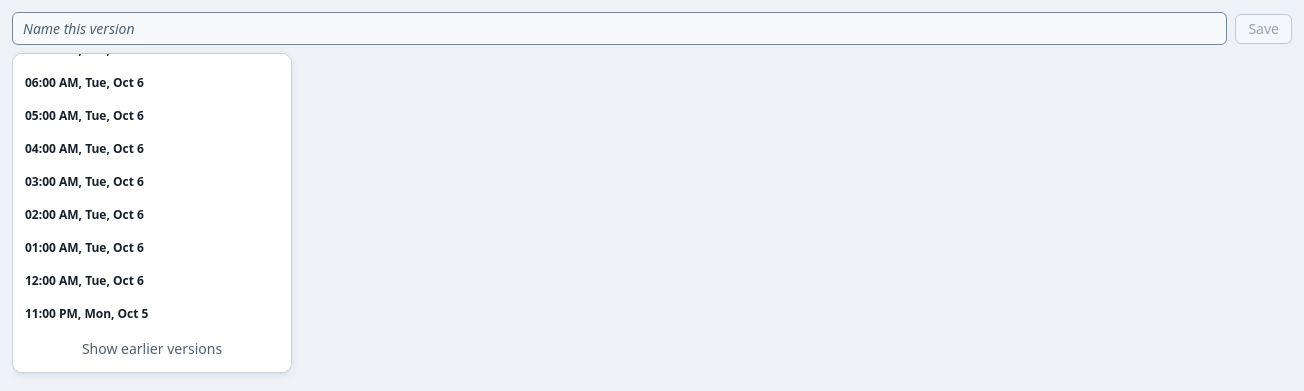
it: the version list › shows the newest fifty, and the rest a page at a time
The width and height of the screenshot is (1304, 391).
(page scrolled)
Click the button with test id "history-more": (152, 349) x1=69 y1=334 x2=235 y2=364
(page scrolled)
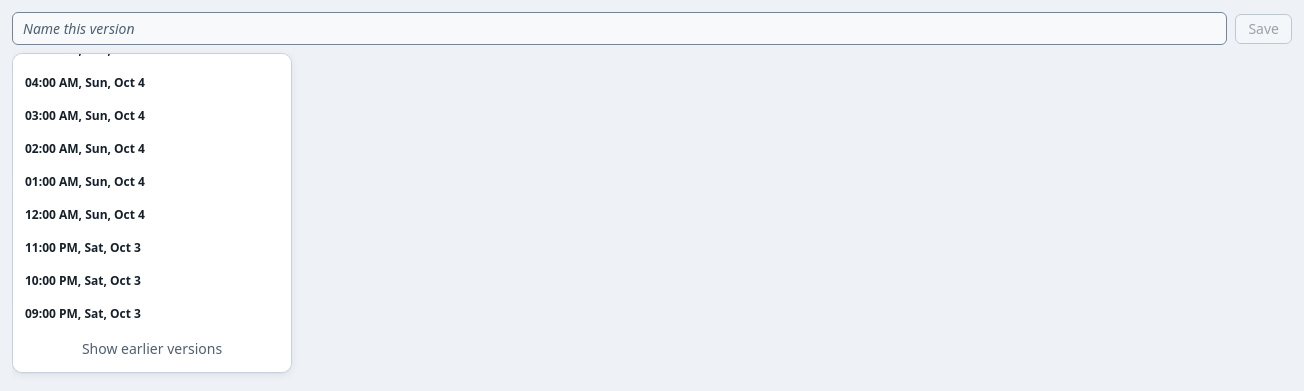
Click the button with test id "history-more": (152, 349) x1=69 y1=334 x2=235 y2=364
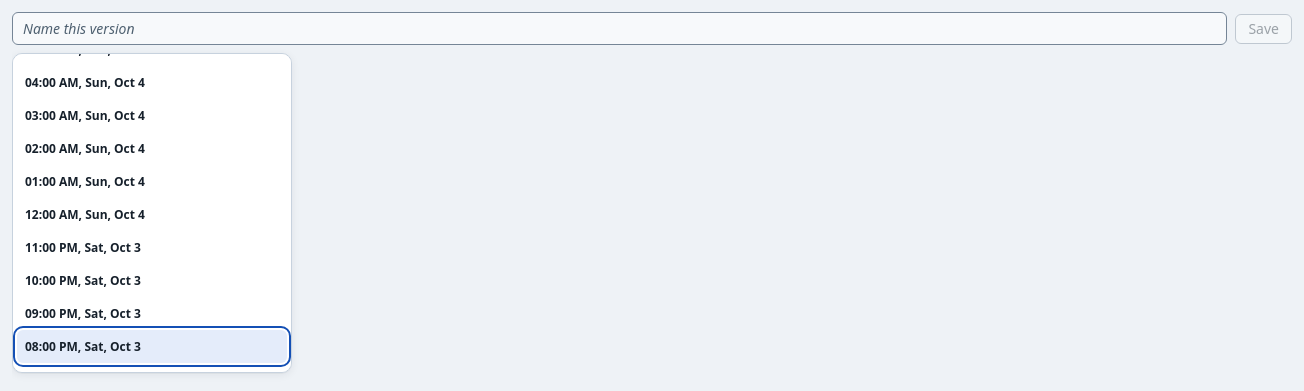
Result: the button with test id "history-more" is gone
